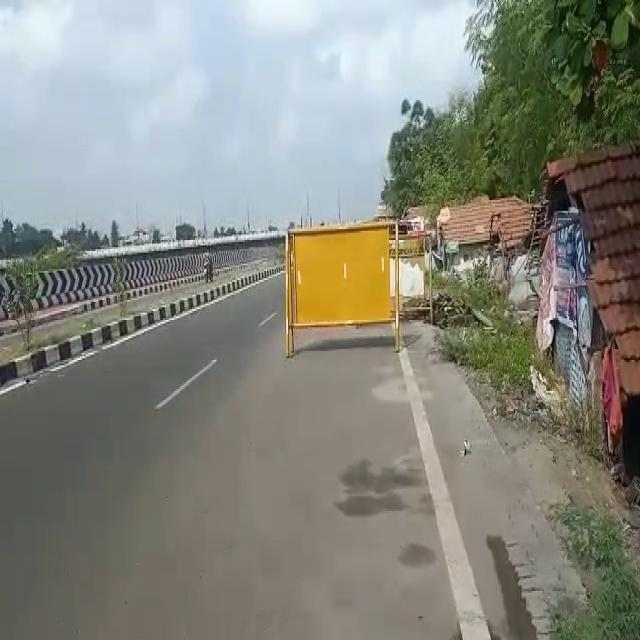fallen_object: (253, 203, 440, 356)
